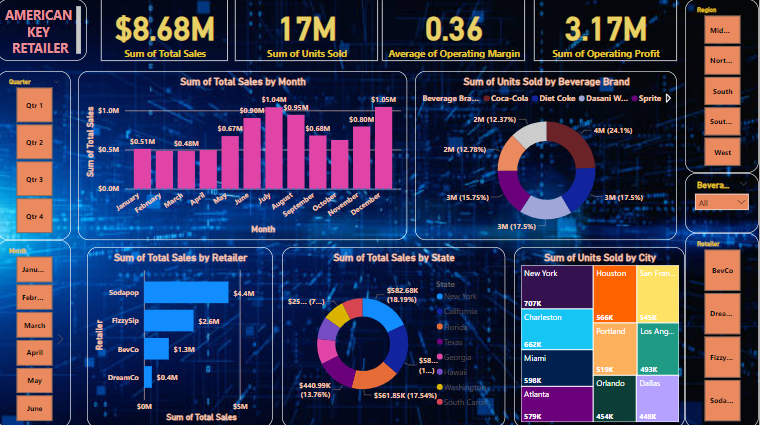

Layout of this report page (visuals, bound fields, positions):
{"tool":"powerbi","page":{"name":"Page 1","canvas":[1280,720],"ordinal":0},"visuals":[{"type":"slicer","fields":{"Values":["Sheet1.Invoice Date.Variation.Date Hierarchy.Month"]},"box":[0,404.8,124.3,315.8],"z":0},{"type":"slicer","fields":{"Values":["Sheet1.Region"]},"box":[1155.7,0,124.3,292.3],"z":1000},{"type":"slicer","fields":{"Values":["Sheet1.Retailer"]},"box":[1155.7,393.1,124.3,327.6],"z":2000},{"type":"slicer","fields":{"Values":["Sheet1.Beverage Brand"]},"box":[1155.7,292.3,124.3,100.8],"z":3000},{"type":"slicer","fields":{"Values":["Sheet1.Invoice Date.Variation.Date Hierarchy.Quarter"]},"box":[0,120.9,124.3,283.9],"z":4000},{"type":"card","fields":{"Values":["Sum(Sheet1.Total Sales)"]},"box":[174.7,0,213.3,104.1],"z":5000},{"type":"card","fields":{"Values":["Sum(Sheet1.Units Sold)"]},"box":[399.8,0,240.2,104.1],"z":6000},{"type":"card","fields":{"Values":["Sum(Sheet1.Operating Profit)"]},"box":[902,0,240.2,104.1],"z":7000},{"type":"card","fields":{"Values":["Avg(Sheet1.Operating Margin)"]},"box":[646.7,0,240.2,104.1],"z":8000},{"type":"columnChart","fields":{"Category":["Sheet1.Invoice Date.Variation.Date Hierarchy.Month"],"Y":["Sum(Sheet1.Total Sales)"]},"box":[136.1,120.9,552.7,283.9],"z":9000},{"type":"donutChart","fields":{"Y":["Sum(Sheet1.Units Sold)"],"Category":["Sheet1.Beverage Brand"]},"box":[702.2,120.9,440.1,283.9],"z":10000},{"type":"barChart","fields":{"Y":["Sum(Sheet1.Total Sales)"],"Category":["Sheet1.Retailer"]},"box":[151.2,416.6,312.4,304],"z":11000},{"type":"treemap","fields":{"Group":["Sheet1.City"],"Values":["Sum(Sheet1.Units Sold)"]},"box":[868.5,416.6,287.2,304],"z":11001},{"type":"donutChart","fields":{"Y":["Sum(Sheet1.Total Sales)"],"Category":["Sheet1.State"]},"box":[478.7,416.6,374.6,304],"z":11002},{"type":"textbox","box":[0,0,151.2,104.1],"z":11003}]}

Visuals, with their boxes in screenshot pixels (x1, y1, x2, y2), scaled from the page's 1280x720 canvas onto the 760x425 screenshot:
slicer - Sheet1.Invoice Date.Variation.Date Hierarchy.Month: box(0, 239, 74, 424)
slicer - Sheet1.Region: box(686, 0, 759, 173)
slicer - Sheet1.Retailer: box(686, 232, 759, 424)
slicer - Sheet1.Beverage Brand: box(686, 173, 759, 232)
slicer - Sheet1.Invoice Date.Variation.Date Hierarchy.Quarter: box(0, 71, 74, 239)
card - Sum(Sheet1.Total Sales): box(104, 0, 230, 61)
card - Sum(Sheet1.Units Sold): box(237, 0, 380, 61)
card - Sum(Sheet1.Operating Profit): box(536, 0, 678, 61)
card - Avg(Sheet1.Operating Margin): box(384, 0, 527, 61)
columnChart - Sheet1.Invoice Date.Variation.Date Hierarchy.Month x Sum(Sheet1.Total Sales): box(81, 71, 409, 239)
donutChart - Sum(Sheet1.Units Sold) x Sheet1.Beverage Brand: box(417, 71, 678, 239)
barChart - Sum(Sheet1.Total Sales) x Sheet1.Retailer: box(90, 246, 275, 424)
treemap - Sheet1.City x Sum(Sheet1.Units Sold): box(516, 246, 686, 424)
donutChart - Sum(Sheet1.Total Sales) x Sheet1.State: box(284, 246, 507, 424)
textbox: box(0, 0, 90, 61)
